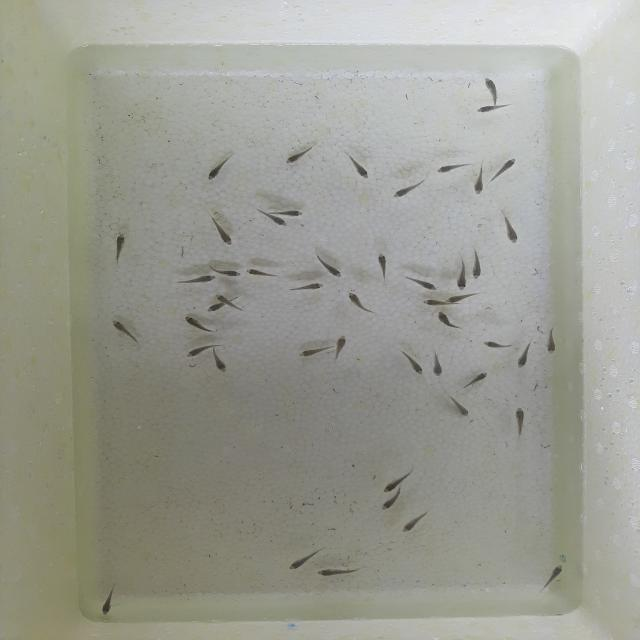fingerling: (206, 154, 235, 182), (208, 352, 235, 380), (399, 275, 440, 293), (208, 219, 234, 247), (345, 151, 370, 179), (250, 210, 288, 228), (401, 350, 426, 376), (349, 291, 375, 316), (111, 317, 138, 341), (492, 157, 520, 180), (384, 471, 414, 492), (317, 257, 344, 280), (470, 246, 488, 280), (405, 512, 432, 534), (314, 568, 363, 580), (432, 309, 459, 330), (285, 552, 314, 571), (182, 315, 210, 334), (388, 183, 419, 200), (113, 228, 129, 260), (463, 370, 488, 390), (209, 265, 244, 279), (471, 164, 486, 196), (513, 404, 527, 438), (544, 564, 565, 586), (448, 290, 486, 302), (284, 150, 312, 166), (216, 292, 244, 308), (504, 219, 520, 246), (270, 206, 306, 218), (298, 345, 328, 359), (451, 401, 473, 420), (454, 258, 467, 290), (196, 302, 228, 314), (183, 344, 210, 358), (172, 275, 219, 283), (380, 498, 403, 514), (433, 343, 443, 379), (418, 299, 453, 309), (96, 596, 112, 617), (334, 335, 348, 359), (484, 80, 499, 100), (243, 268, 273, 278), (518, 347, 532, 368), (376, 255, 388, 279), (483, 340, 505, 353), (476, 105, 505, 114), (434, 165, 462, 174), (294, 284, 326, 291), (547, 334, 556, 356)
